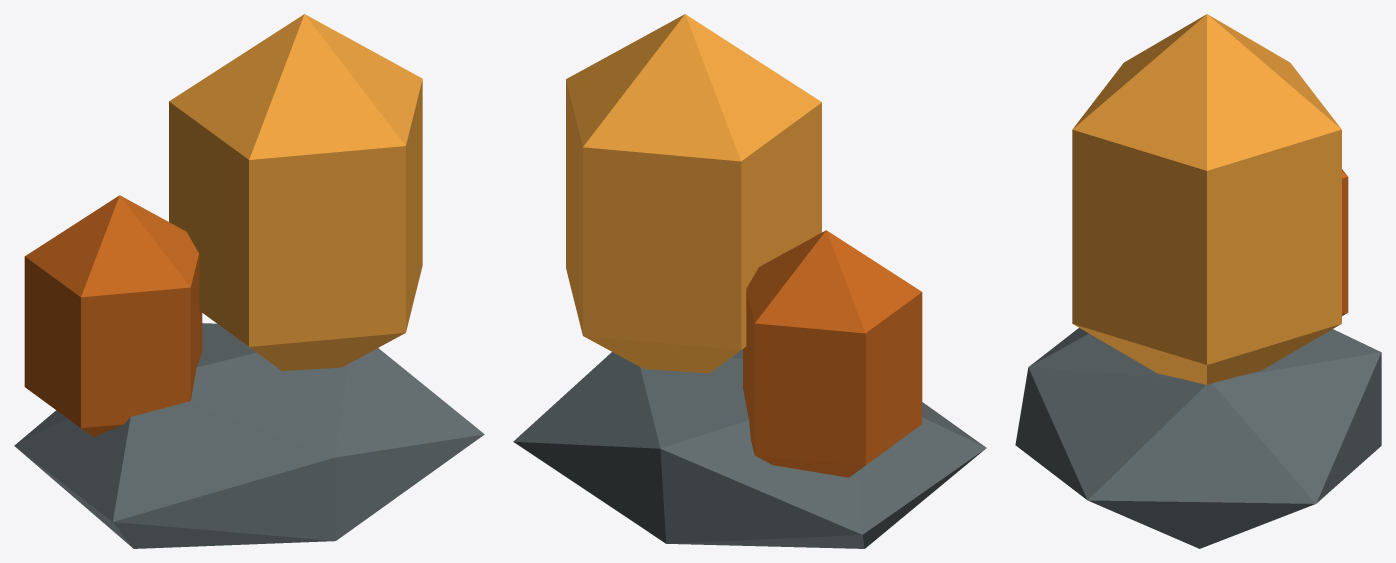
File: food_amber_b.obj
The picture shows the model from 3 angles, left to right: view 1: azimuth 30°, elevation 25°; view 2: azimuth 150°, elevation 25°; view 3: azimuth 270°, elevation 25°; orthographic projection. The views are drawn at different scales.
Visible parts, largest first — view 1: food_amber_b; view 2: food_amber_b; view 3: food_amber_b.
Part boxes in pixels (left/top/right/bottom): food_amber_b: left=14, top=14, right=484, bottom=548; food_amber_b: left=513, top=14, right=986, bottom=548; food_amber_b: left=1015, top=14, right=1381, bottom=548.
Size of the model in its own units: 1.13 by 1.44 by 0.9399.
